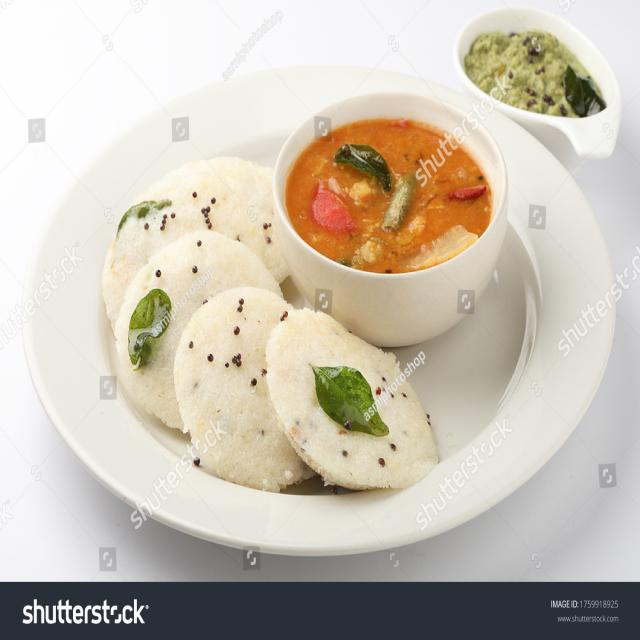IDLI: (117, 235, 286, 433), (268, 313, 433, 494), (106, 169, 268, 321), (176, 290, 295, 486)
